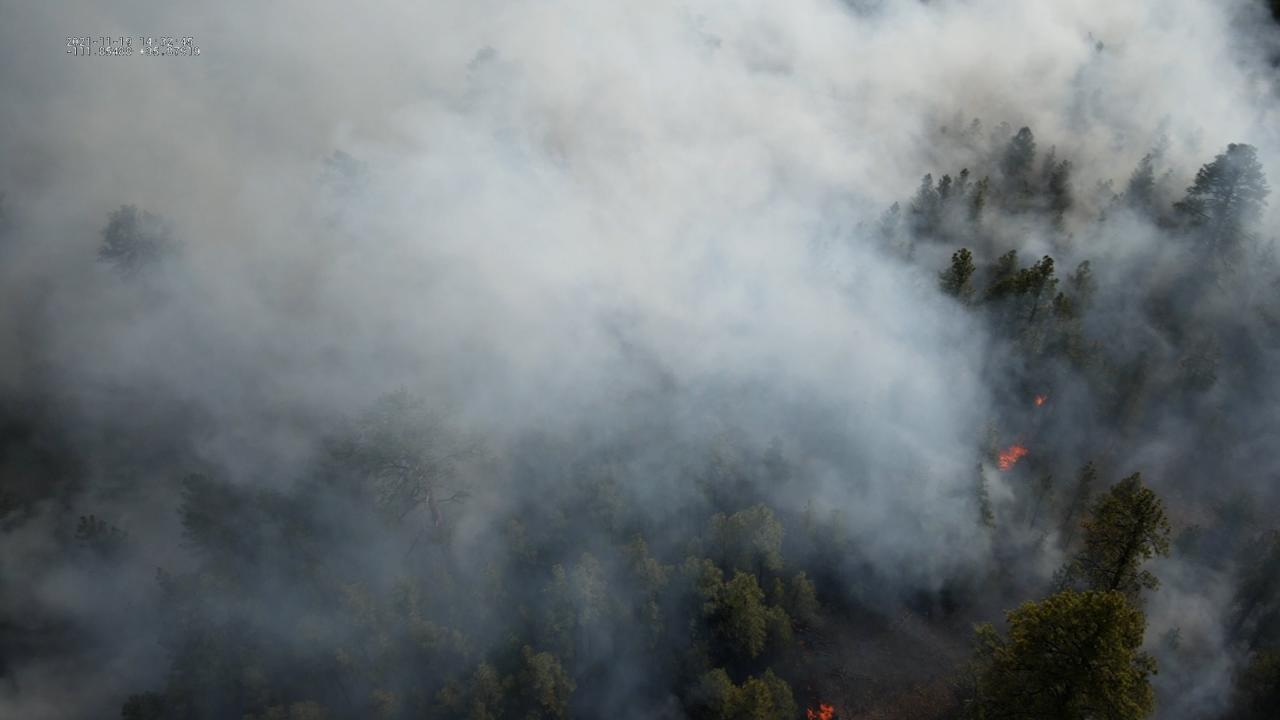fire: (996, 444, 1030, 474), (806, 702, 835, 720), (1033, 393, 1048, 409)
smoke: (0, 0, 1280, 720)
